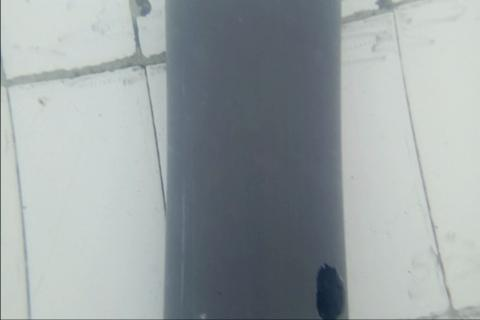kebocoran: (314, 262, 347, 320)
